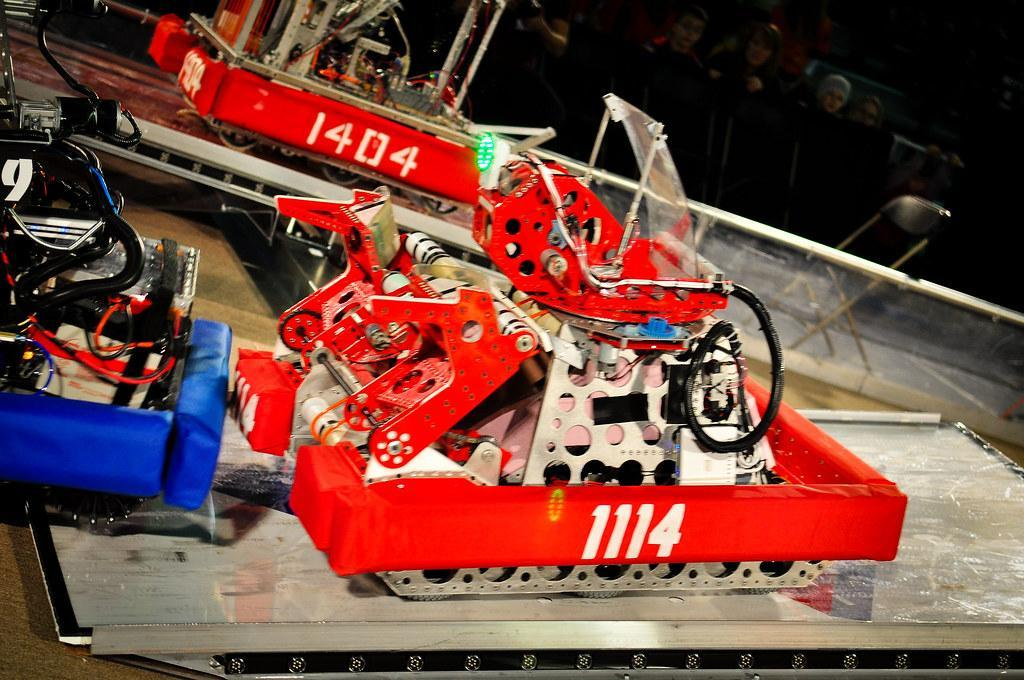robot: (214, 92, 913, 607), (0, 1, 237, 534), (149, 0, 513, 217)
